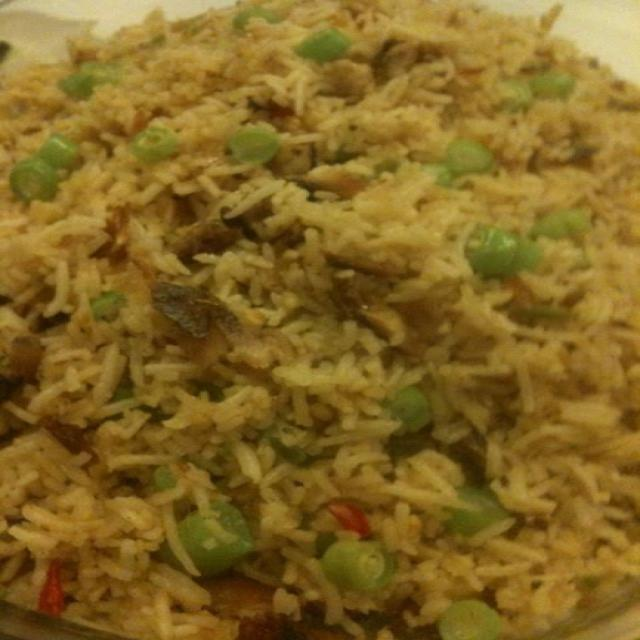米饭主食: (25, 26, 605, 596)
